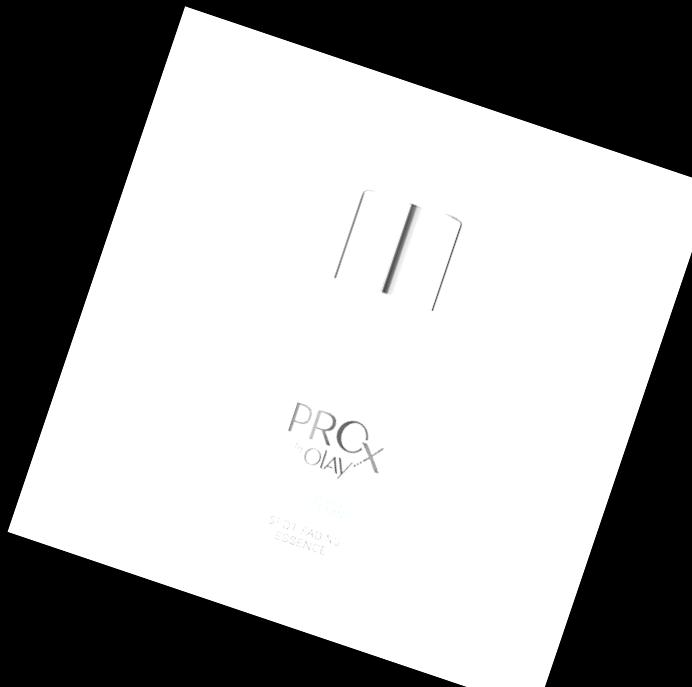cosmetic: (220, 102, 511, 610)
